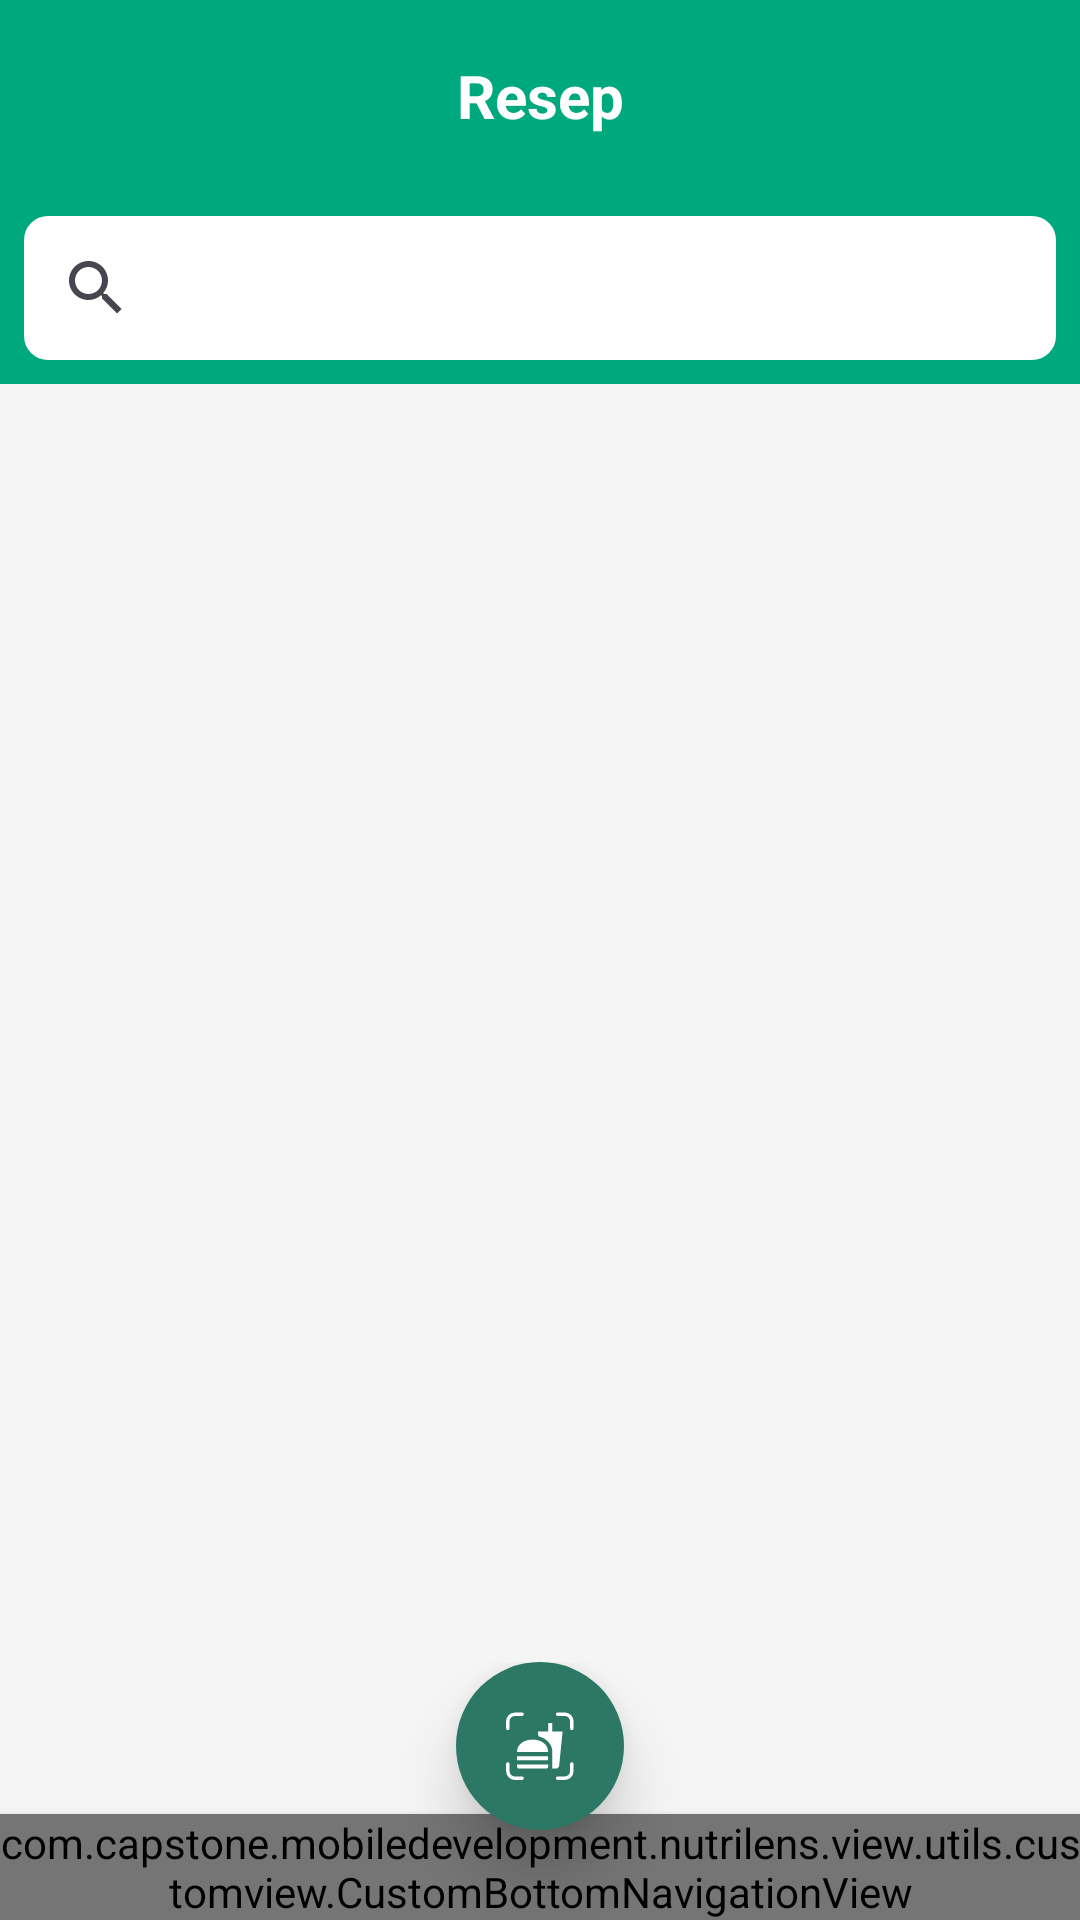

Icon bounding boxes for this 1080*1920 phone screenshot, format box(x1, y1, x2, y2):
lucide scan: box(456, 1662, 624, 1830)
